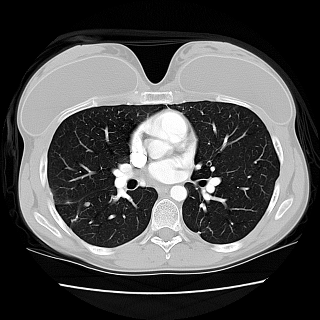nodule: (84, 201, 90, 207)
